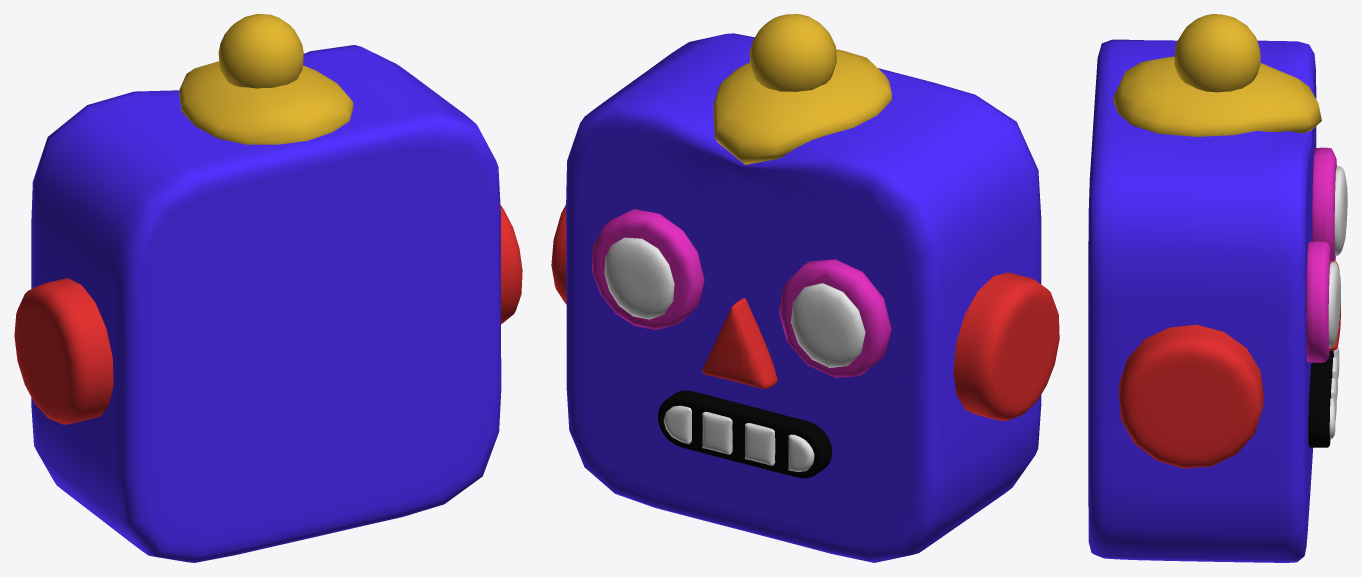
The model's file is robot FBX.glb.
3 renders of one model, left to right at view 1: azimuth 30°, elevation 25°; view 2: azimuth 150°, elevation 25°; view 3: azimuth 270°, elevation 25°, orthographic.
Visible parts, largest first — view 1: R8, R4, R9, R7; view 2: R8, R4, R9, R6, R5, R2, R7, robot, R3; view 3: R8, R4, R9, R7, R6, R2, R5, robot.
Boxes of the visible parts, left/top/right/bottom form: R8: left=31, top=45, right=501, bottom=562; R4: left=14, top=205, right=522, bottom=424; R9: left=179, top=61, right=353, bottom=144; R7: left=218, top=14, right=303, bottom=88; R8: left=566, top=33, right=1041, bottom=562; R4: left=551, top=205, right=1059, bottom=420; R9: left=713, top=49, right=891, bottom=164; R6: left=592, top=209, right=891, bottom=377; R5: left=604, top=237, right=865, bottom=367; R2: left=658, top=390, right=832, bottom=478; R7: left=749, top=14, right=836, bottom=91; robot: left=663, top=405, right=814, bottom=471; R3: left=702, top=298, right=777, bottom=388; R8: left=1088, top=39, right=1316, bottom=562; R4: left=1118, top=324, right=1263, bottom=468; R9: left=1113, top=56, right=1321, bottom=136; R7: left=1174, top=14, right=1260, bottom=92; R6: left=1306, top=147, right=1336, bottom=362; R2: left=1308, top=350, right=1333, bottom=447; R5: left=1328, top=166, right=1347, bottom=348; robot: left=1329, top=347, right=1339, bottom=438.
Size of the model in its own units: 0.3503 by 0.3579 by 0.1745.
